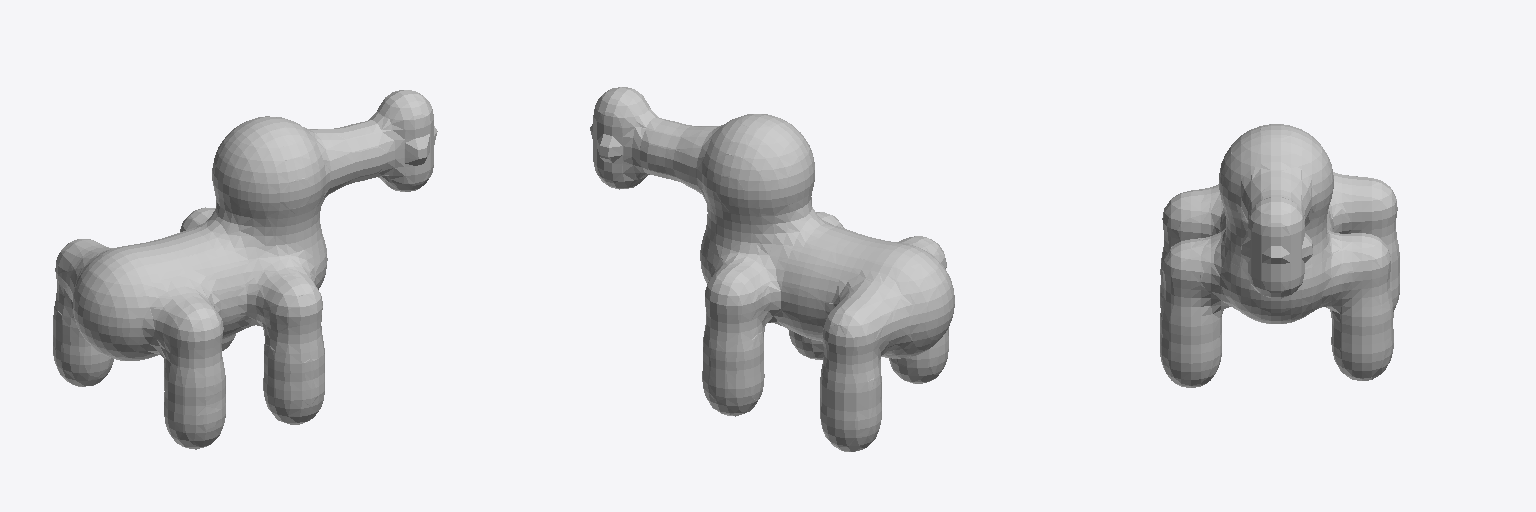
The model's file is After3.obj.
3 renders of one model, left to right at view 1: azimuth 30°, elevation 25°; view 2: azimuth 150°, elevation 25°; view 3: azimuth 270°, elevation 25°, orthographic.
Parts seen in each view (by area): view 1: Mball; view 2: Mball; view 3: Mball.
Boxes of the visible parts, <box> form: Mball: <box>53,90,437,449</box>; Mball: <box>590,87,954,451</box>; Mball: <box>1160,124,1399,387</box>.
Size of the model in its own units: 81.46 by 58.19 by 47.87.